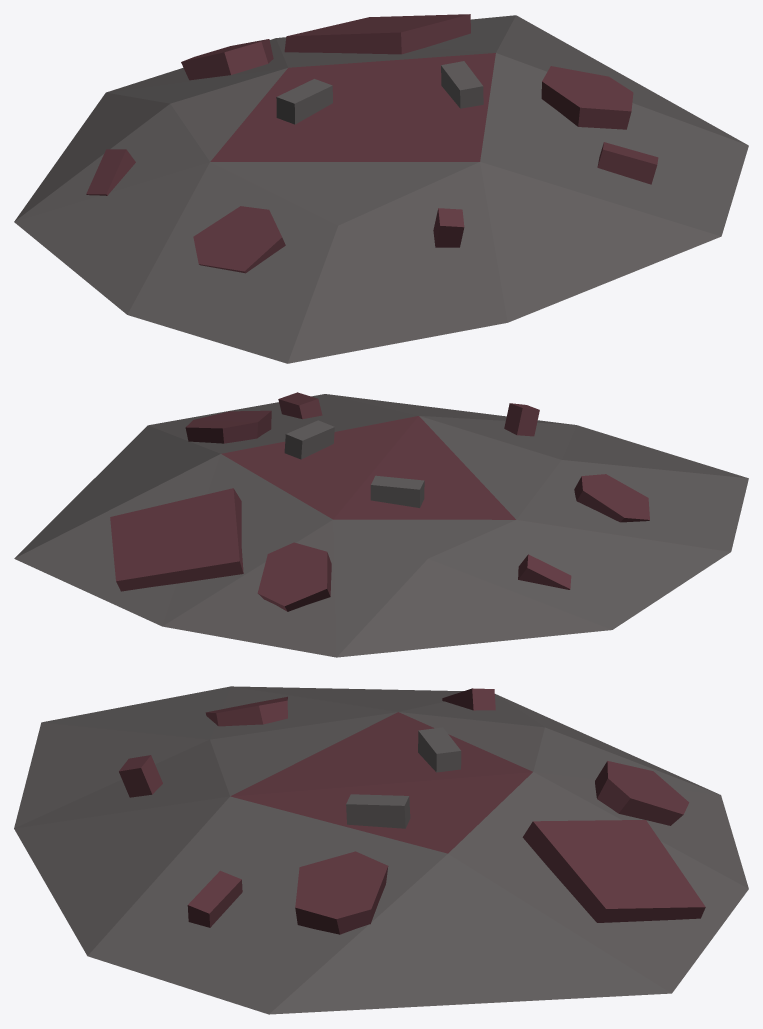
The model's file is apocalypse-rubble-concrete-apocalypse-b.glb.
3 renders of one model, top to bottom at view 1: azimuth 30°, elevation 25°; view 2: azimuth 150°, elevation 25°; view 3: azimuth 270°, elevation 25°, orthographic. The views are drawn at different scales.
Visible parts, largest first — view 1: rubble-concrete-apocalypse-b; view 2: rubble-concrete-apocalypse-b; view 3: rubble-concrete-apocalypse-b.
Part boxes in pixels (x1=…): rubble-concrete-apocalypse-b: x1=14, y1=14, x2=748, y2=363; rubble-concrete-apocalypse-b: x1=14, y1=392, x2=748, y2=657; rubble-concrete-apocalypse-b: x1=14, y1=686, x2=748, y2=1014.
Size of the model in its own units: 5.34 by 0.727 by 5.06.
